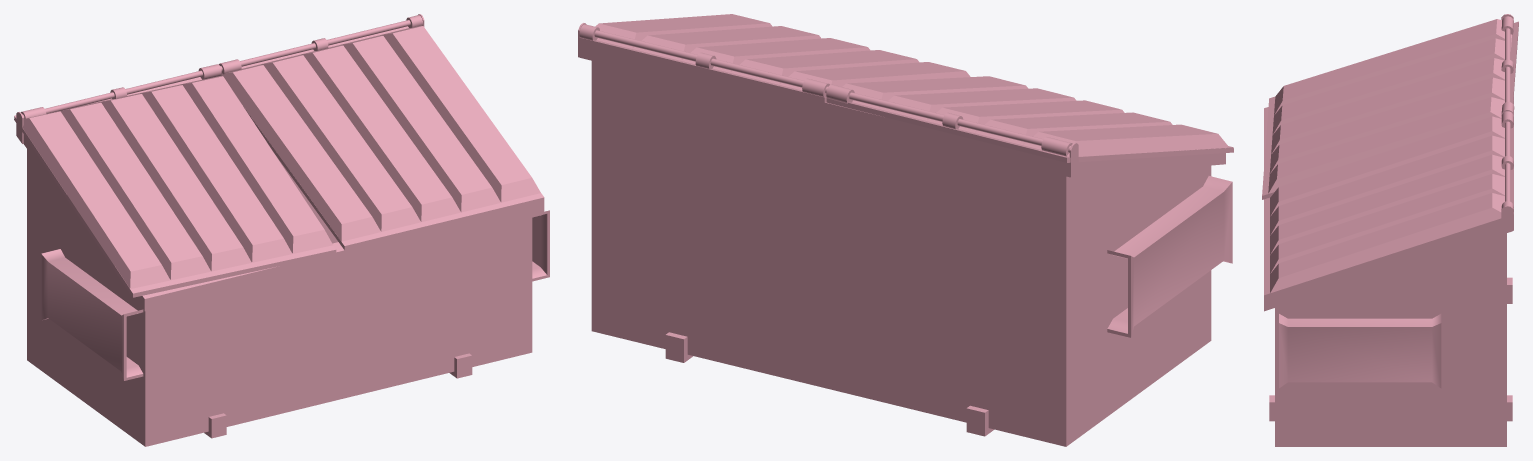
File: Dumpster.fbx
3 views of the same model, side by side, from view 1: azimuth 30°, elevation 25°; view 2: azimuth 150°, elevation 25°; view 3: azimuth 270°, elevation 25° (orthographic). The views are drawn at different scales.
Parts seen in each view (by area): view 1: Dumpster; view 2: Dumpster; view 3: Dumpster.
Part boxes in pixels (x1,y1,x2,y2): Dumpster: [14, 14, 549, 446]; Dumpster: [578, 14, 1233, 446]; Dumpster: [1262, 14, 1518, 446].
Bounding box in the file's own units: 342 × 195 × 182.
